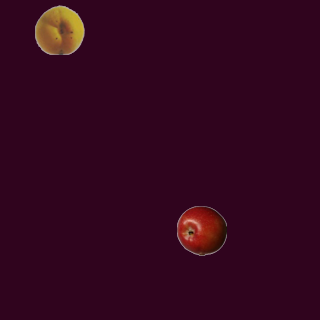Apple Braeburn: (176, 205, 226, 255)
Peach 2: (34, 4, 84, 54)
